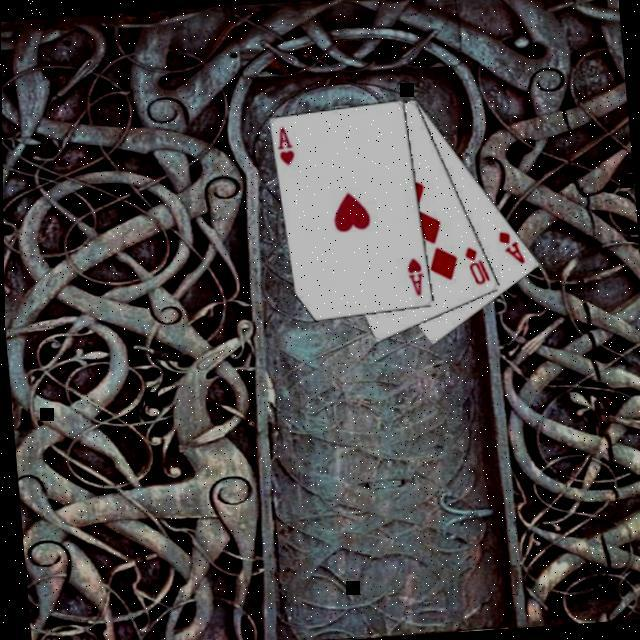10D: (459, 242, 491, 288)
AD: (493, 226, 526, 268)
AH: (271, 123, 296, 167), (402, 254, 426, 298)
